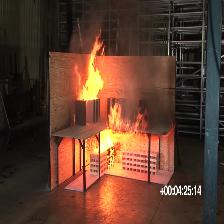fire: (86, 103, 149, 169), (75, 29, 104, 100)
